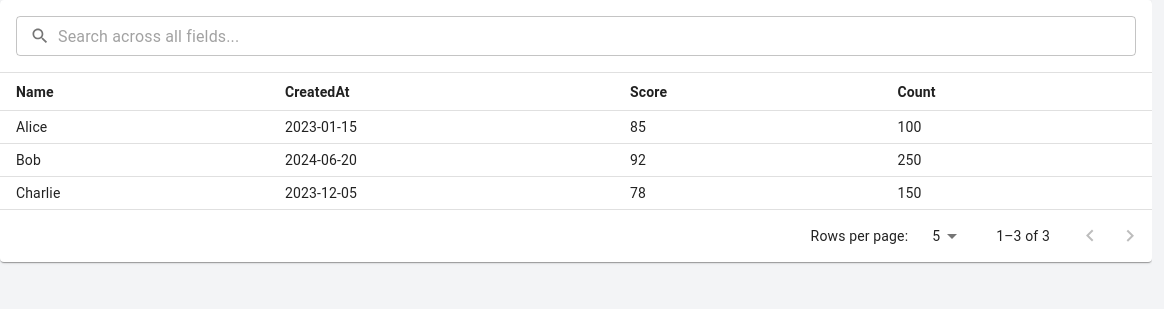
Scenario: DynamicTable › Search › searches date strings and numbers correctly
The width and height of the screenshot is (1164, 309).
# Search by year in date string
Step 1. Type "2023" into the field with placeholder "Search across all fields..." → (597, 36), box [58,16,1136,56]
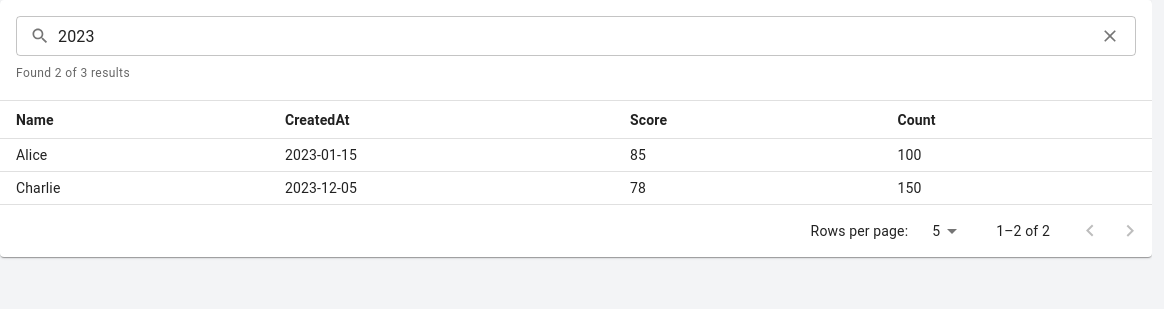
Expected: the text "Alice" is shown, [16,147,48,163]
Expected: the text "Bob" is gone
# Search by number (exact)
Step 2. Replace the text in the field with placeholder "Search across all fields..." with "92" → (572, 36), box [58,16,1087,56]
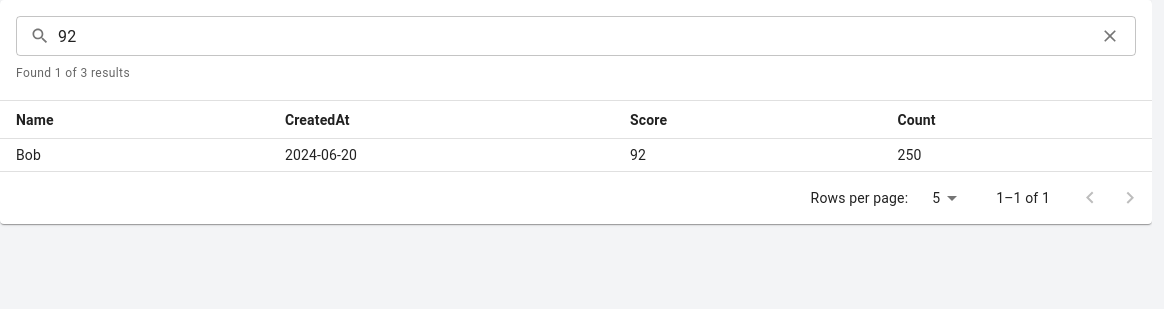
Expected: the text "Bob" is shown, [16,147,41,163]
Expected: the text "Alice" is gone
Expected: the text "Charlie" is gone
# Search by partial number
Step 3. Replace the text in the field with placeholder "Search across all fields..." with "5" → (572, 36), box [58,16,1087,56]
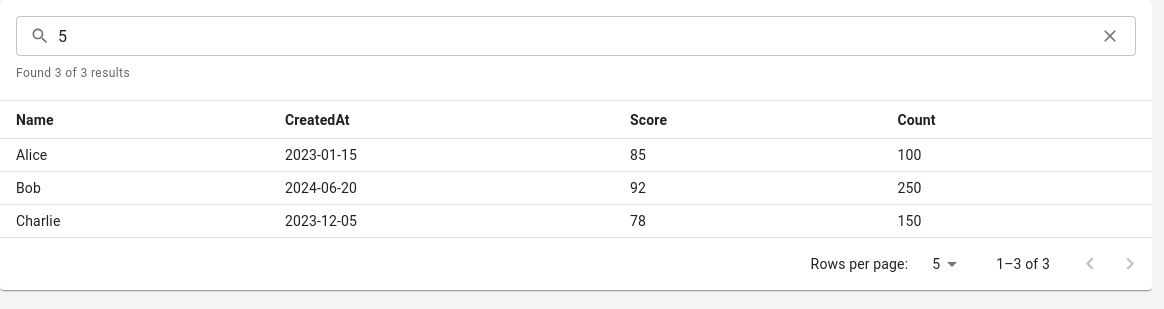
Expected: the text "Bob" is shown, [16,180,41,196]
Expected: the text "Alice" is shown, [16,147,48,163]
Expected: the text "Charlie" is shown, [16,213,60,229]
# Search by date month
Step 4. Replace the text in the field with placeholder "Search across all fields..." with "01" → (572, 36), box [58,16,1087,56]
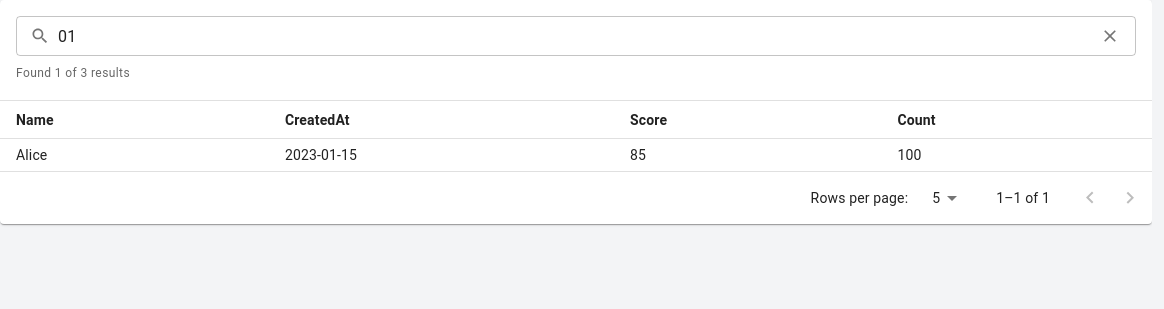
Expected: the text "Alice" is shown, [16,147,48,163]
Expected: the text "Bob" is gone
